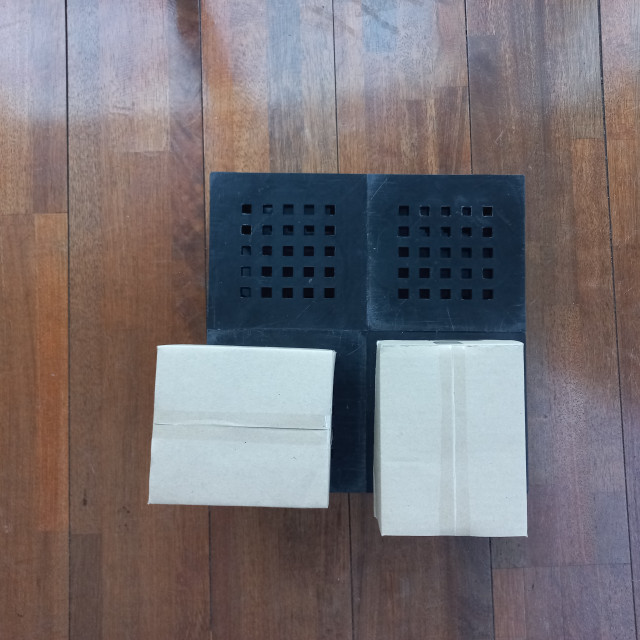box: (309, 128, 448, 297), (165, 101, 279, 303)
